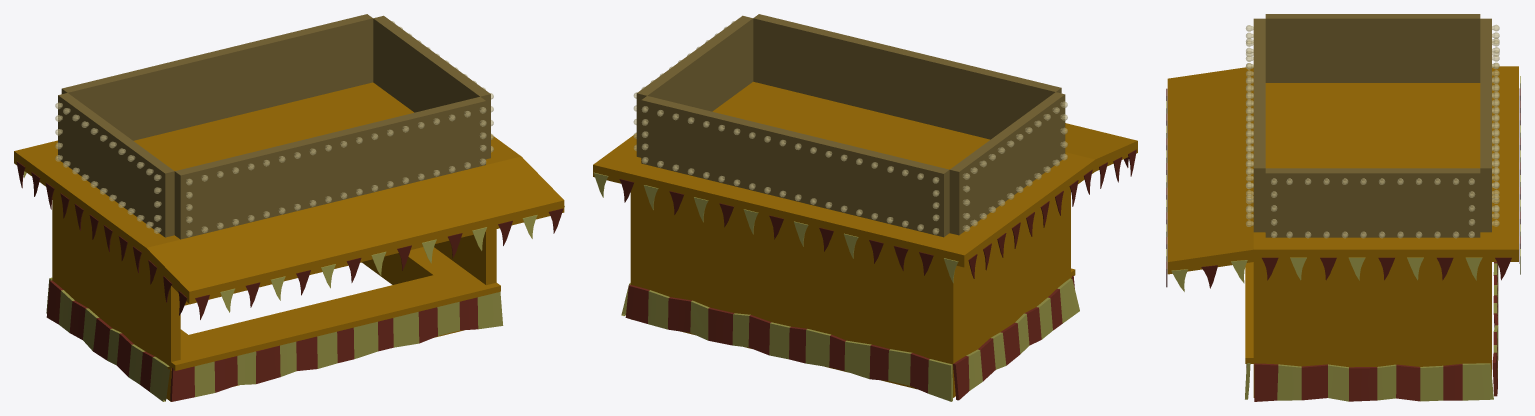
Rendered from BoothProxy.fbx.
3 views of the same model, side by side, from view 1: azimuth 30°, elevation 25°; view 2: azimuth 150°, elevation 25°; view 3: azimuth 270°, elevation 25° (orthographic).
Parts seen in each view (by area): view 1: Booth_Frame, Booth_Sign, Skirt_Front, Skirt_LT, Flags; view 2: Booth_Frame, Booth_Sign, Skirt_Back, Skirt_LT, Flags; view 3: Booth_Frame, Booth_Sign, Skirt_RT, Flags, Skirt_Back.
Boxes of the visible parts, x1,y1,x2,y2 form: Booth_Frame: (14,82,564,401); Booth_Sign: (58,14,490,239); Skirt_Front: (170,292,503,401); Skirt_LT: (46,280,169,401); Flags: (16,161,564,319); Booth_Frame: (593,81,1137,397); Booth_Sign: (636,14,1065,237); Skirt_Back: (625,284,952,401); Skirt_LT: (953,278,1079,400); Flags: (594,149,1136,283); Booth_Frame: (1167,66,1518,397); Booth_Sign: (1253,14,1491,237); Skirt_RT: (1254,363,1493,401); Flags: (1166,76,1520,291); Skirt_Back: (1492,262,1498,396).
Size of the model in its own units: 930 by 528 by 751.
